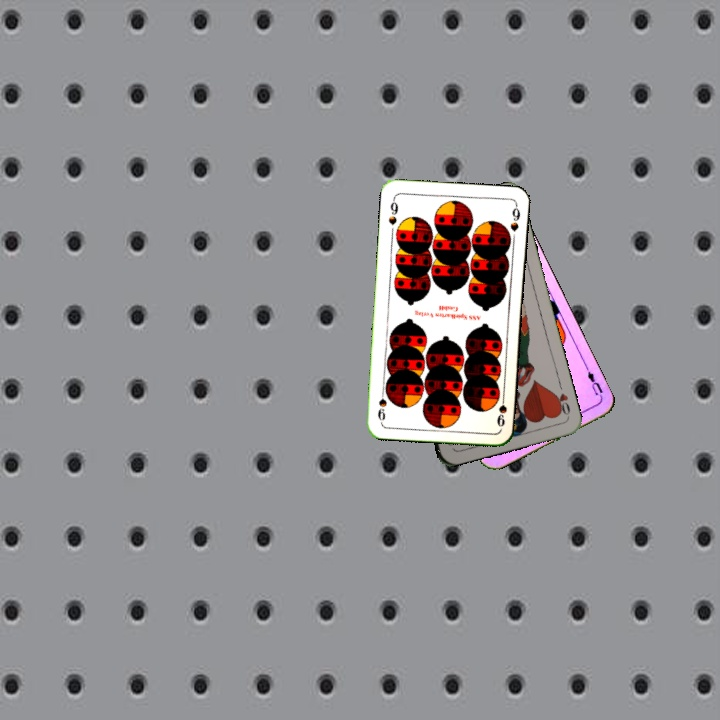EU: (582, 363, 605, 402)
HO: (550, 379, 573, 419)
S9: (491, 390, 510, 430), (385, 194, 401, 228)
